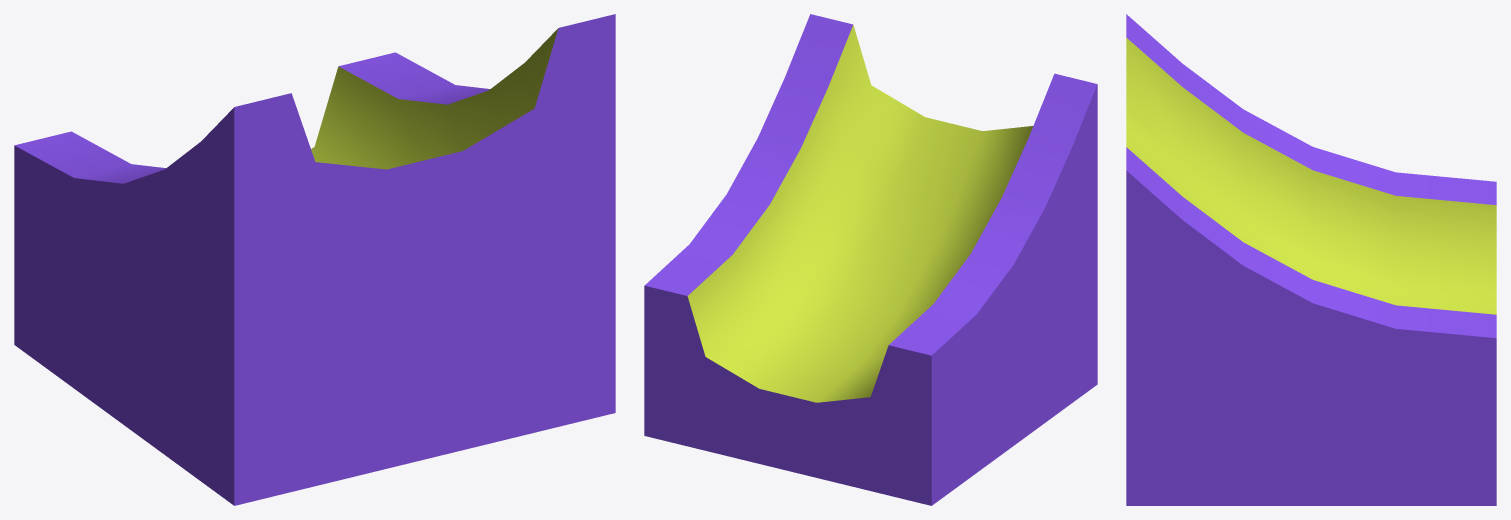
File: rampStart_solid_C.fbx
The picture shows the model from 3 angles, left to right: view 1: azimuth 30°, elevation 25°; view 2: azimuth 150°, elevation 25°; view 3: azimuth 270°, elevation 25°; orthographic projection. The views are drawn at different scales.
Visible parts, largest first — view 1: rampStart_solid_C; view 2: rampStart_solid_C; view 3: rampStart_solid_C.
Boxes of the visible parts, left/top/right/bottom form: rampStart_solid_C: left=14, top=14, right=615, bottom=505; rampStart_solid_C: left=644, top=14, right=1097, bottom=505; rampStart_solid_C: left=1126, top=14, right=1496, bottom=505.
Bounding box in the file's own units: 10 × 10 × 10.
